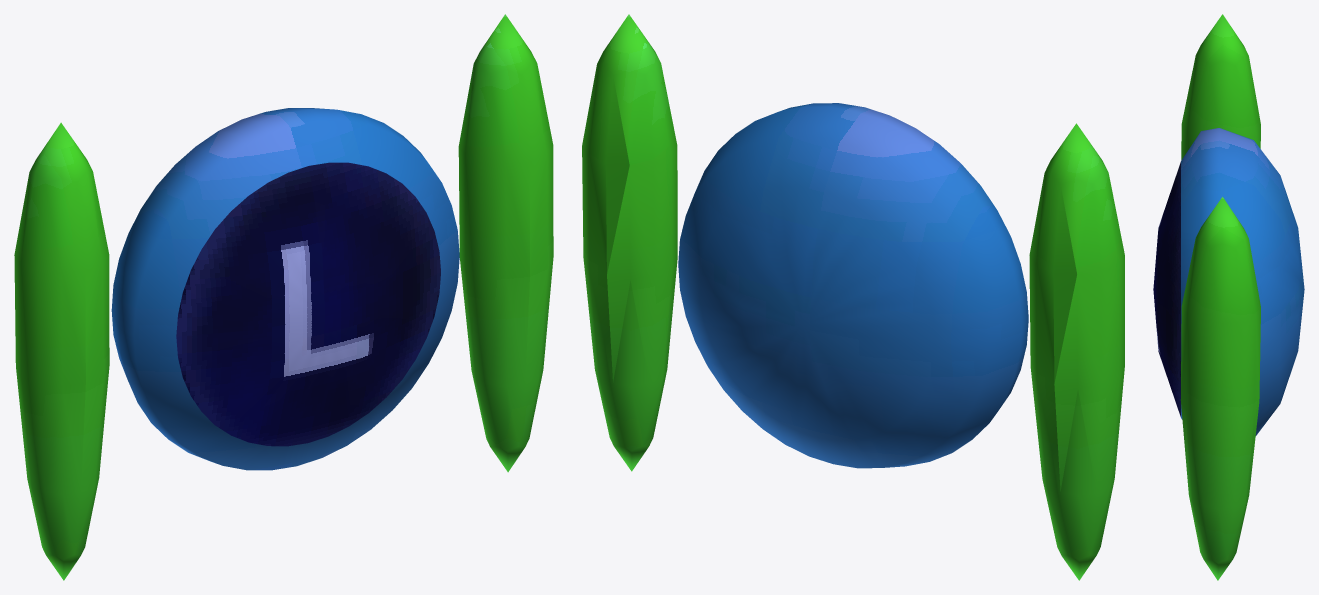
File: ArWing Laser Power Up.obj
3 renders of one model, left to right at view 1: azimuth 30°, elevation 25°; view 2: azimuth 150°, elevation 25°; view 3: azimuth 270°, elevation 25°, orthographic. The views are drawn at different scales.
Visible parts, largest first — view 1: MODELS_bin_038:poly000, MODELS_bin_038:poly001, MODELS_bin_038:poly002; view 2: MODELS_bin_038:poly002, MODELS_bin_038:poly000; view 3: MODELS_bin_038:poly000, MODELS_bin_038:poly002, MODELS_bin_038:poly001.
Boxes of the visible parts, <box> form: MODELS_bin_038:poly000: <box>14,14,553,580</box>; MODELS_bin_038:poly001: <box>176,162,440,446</box>; MODELS_bin_038:poly002: <box>111,108,459,470</box>; MODELS_bin_038:poly002: <box>678,103,1028,468</box>; MODELS_bin_038:poly000: <box>582,14,1124,580</box>; MODELS_bin_038:poly000: <box>1180,14,1260,580</box>; MODELS_bin_038:poly002: <box>1181,128,1304,435</box>; MODELS_bin_038:poly001: <box>1153,162,1180,416</box>.
Size of the model in its own units: 0.7219 by 0.5984 by 0.2133.
3 materials, 3 textured.
